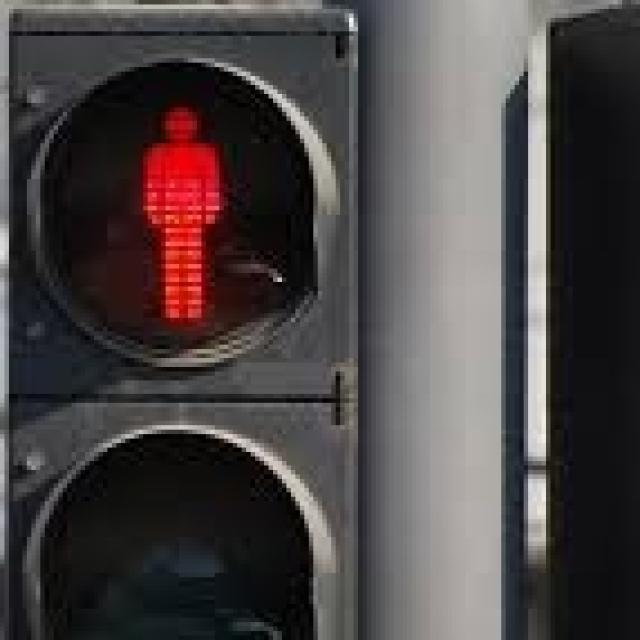red_light: (108, 76, 242, 327)
